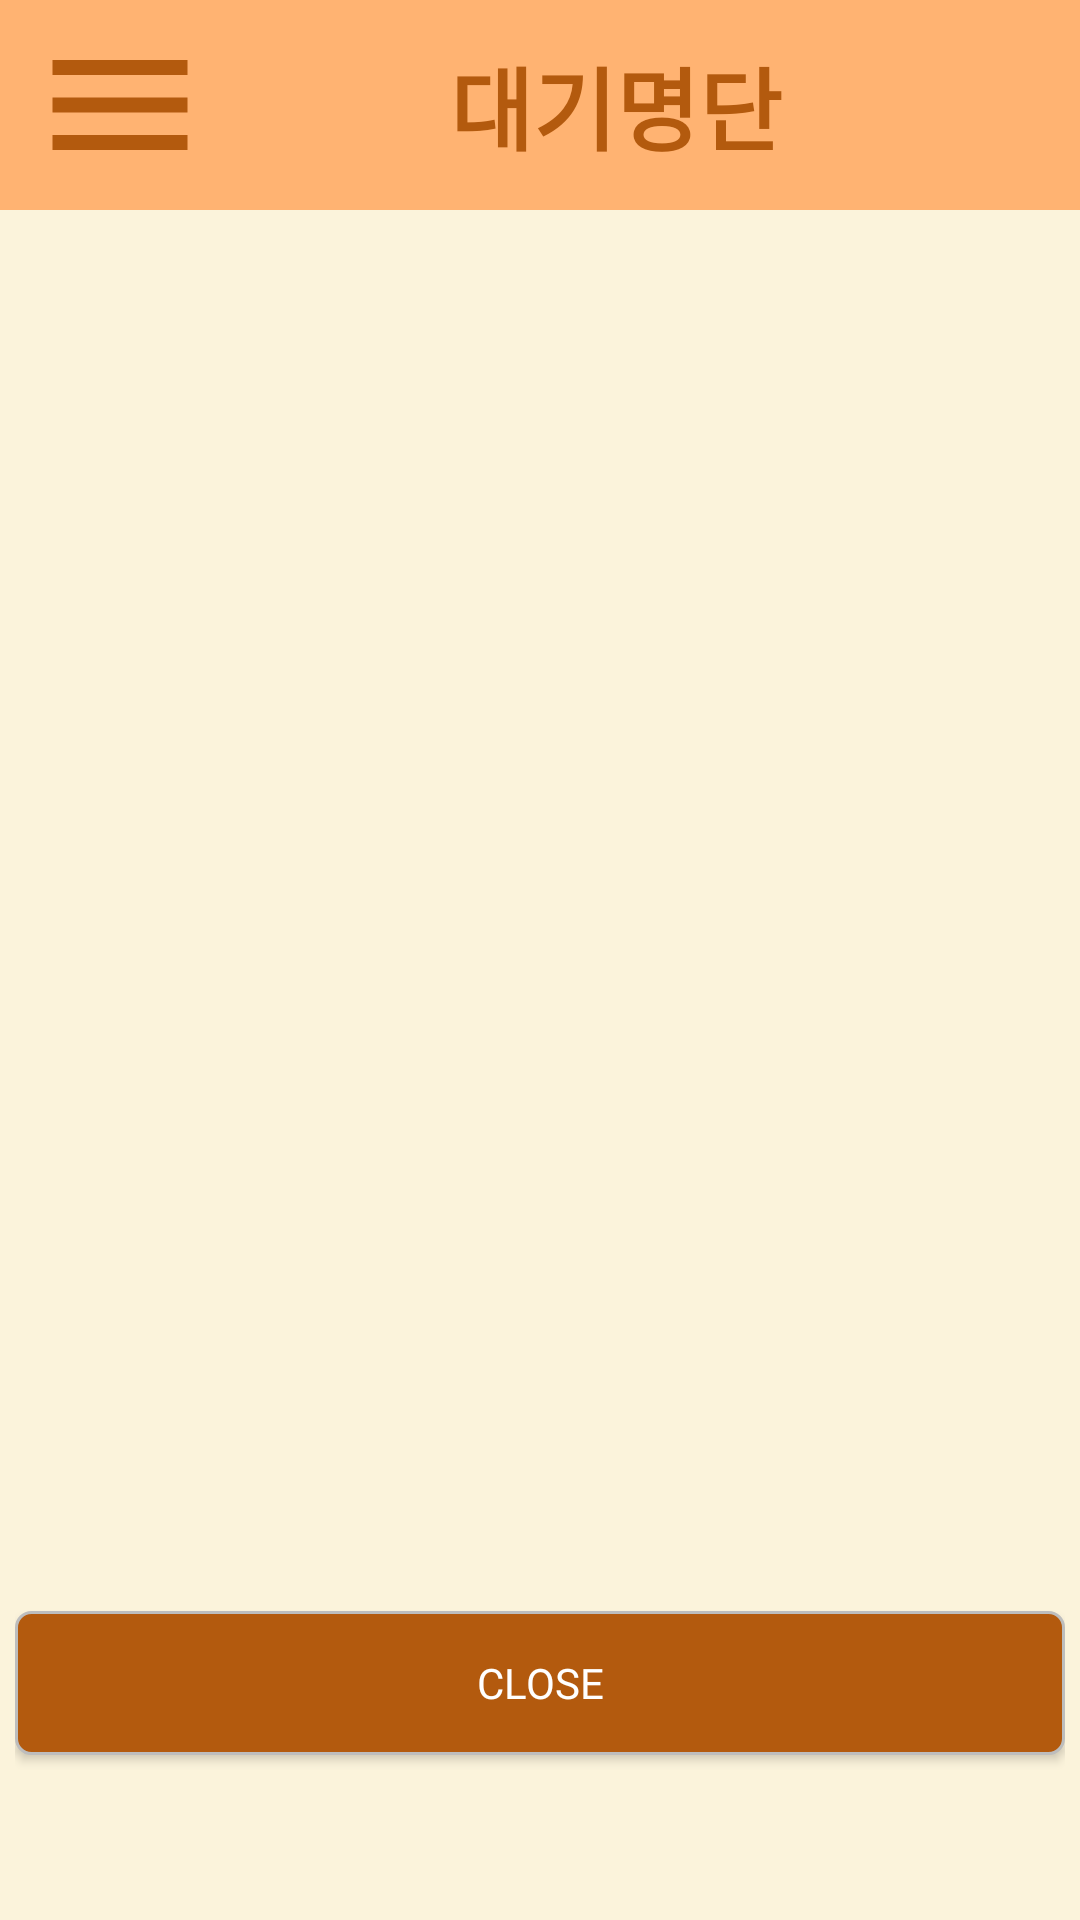

Where icons sit on this 1080 × 1920 app screen, as (x1=x1, y1=y1, x2=x2, y2=y2):
menu: (x1=52, y1=60, x2=188, y2=150)
